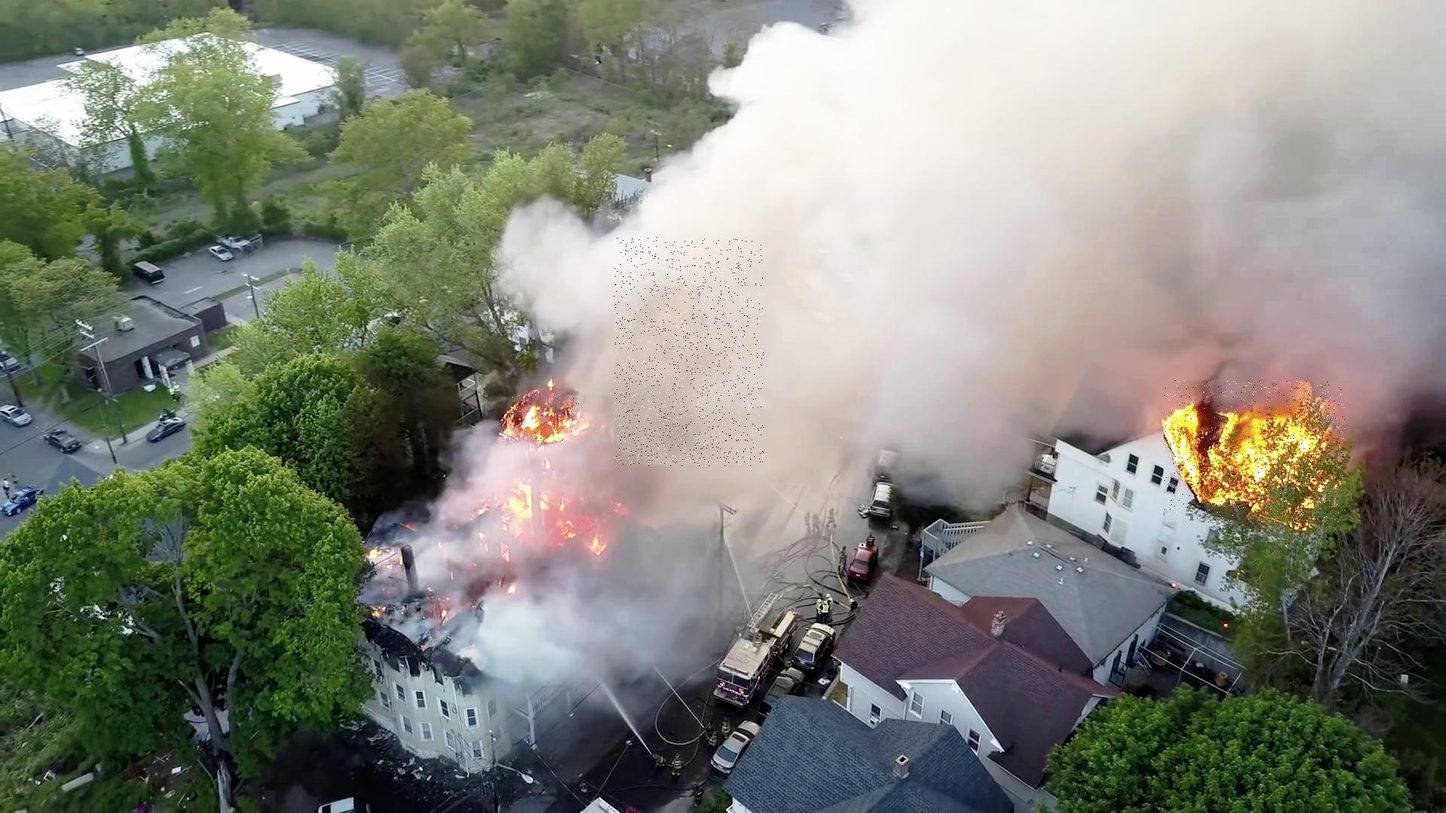fire: (1164, 380, 1346, 523), (507, 394, 581, 443)
smoke: (614, 238, 764, 467)
